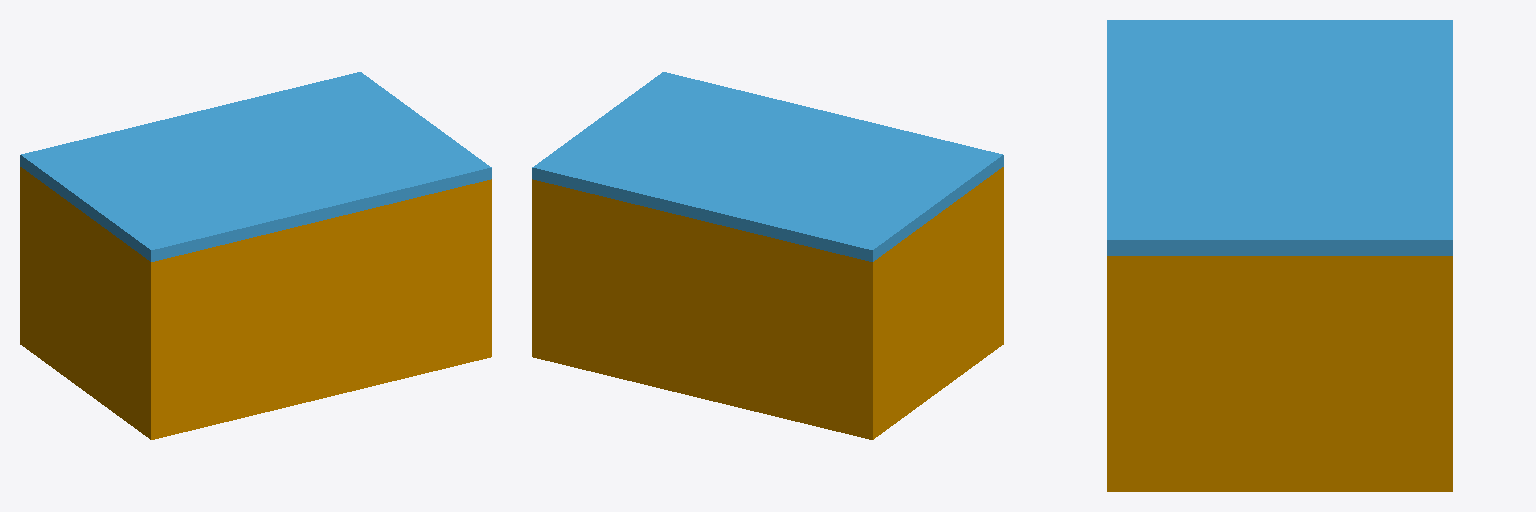
The robot description file, URDF, robot "box_lid":
<robot name="box_lid">
  <link name="parent"><visual><geometry><mesh filename="parent.obj"/></geometry></visual></link>
  <link name="child"><visual><geometry><mesh filename="child.obj"/></geometry></visual></link>
  <joint name="j" type="revolute">
    <parent link="parent"/><child link="child"/>
    <origin xyz="-0.150000 0.000000 0.150000" rpy="0 0 0"/>
    <axis xyz="0.000000 1.000000 0.000000"/>
  </joint>
</robot>

--- What the picture shows (computed from the rendered views, not written in the file) ---
The picture shows the robot from 3 angles, left to right: view 1: azimuth 30°, elevation 25°; view 2: azimuth 150°, elevation 25°; view 3: azimuth 270°, elevation 25°; orthographic projection.
Robot: box_lid — 2 links, 1 joints (1 revolute); root link parent; default pose: all joints at 0.
Links seen in each view (by area): view 1: parent, child; view 2: parent, child; view 3: parent, child.
Boxes of the visible links, x1,y1,x2,y2 form: parent: [20, 167, 491, 439]; child: [20, 72, 491, 261]; parent: [532, 167, 1003, 439]; child: [532, 72, 1003, 261]; parent: [1107, 256, 1452, 491]; child: [1107, 20, 1452, 255].
Bounding box of the posed robot: 0.3 × 0.2 × 0.16 m (x, y, z).
2 mesh visuals loaded from 2 distinct referenced files (2 OBJ).
